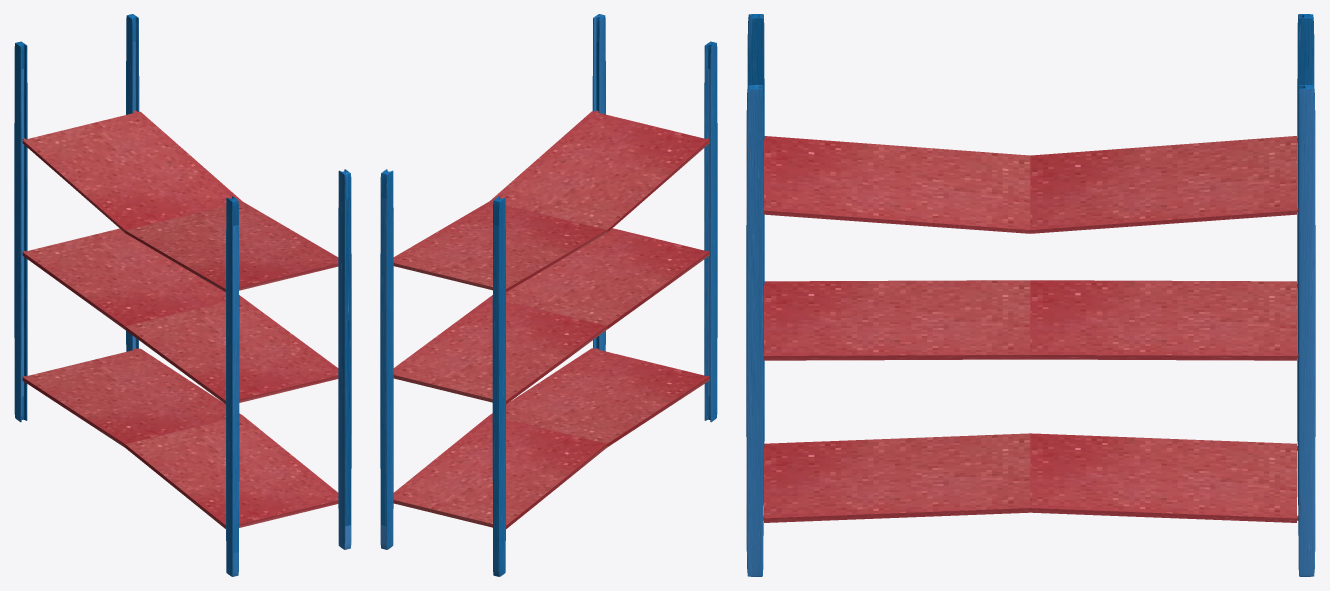
The model's file is ShelvesLongBroken.fbx.
3 renders of one model, left to right at view 1: azimuth 30°, elevation 25°; view 2: azimuth 150°, elevation 25°; view 3: azimuth 270°, elevation 25°, orthographic. The views are drawn at different scales.
Visible parts, largest first — view 1: Shelf, Shelf10, Shelf9, pCube1, pCube8, pCube7, pCube9; view 2: Shelf, Shelf10, Shelf9, pCube9, pCube7, pCube8, pCube1; view 3: Shelf10, Shelf9, Shelf, pCube1, pCube9, pCube8, pCube7.
Boxes of the visible parts, left/top/right/bottom form: Shelf: left=22, top=110, right=338, bottom=292; Shelf10: left=22, top=348, right=338, bottom=528; Shelf9: left=22, top=228, right=338, bottom=404; pCube1: left=338, top=169, right=351, bottom=549; pCube8: left=14, top=41, right=27, bottom=422; pCube7: left=226, top=196, right=239, bottom=576; pCube9: left=126, top=14, right=139, bottom=351; Shelf: left=393, top=110, right=709, bottom=291; Shelf10: left=393, top=348, right=709, bottom=528; Shelf9: left=393, top=228, right=709, bottom=404; pCube9: left=380, top=169, right=393, bottom=549; pCube7: left=704, top=41, right=717, bottom=422; pCube8: left=492, top=196, right=505, bottom=576; pCube1: left=592, top=14, right=605, bottom=351; Shelf10: left=763, top=433, right=1298, bottom=522; Shelf9: left=763, top=280, right=1298, bottom=360; Shelf: left=763, top=136, right=1298, bottom=233; pCube1: left=746, top=85, right=763, bottom=576; pCube9: left=1298, top=85, right=1315, bottom=576; pCube8: left=1297, top=14, right=1314, bottom=504; pCube7: left=747, top=14, right=764, bottom=504.
Size of the model in its own units: 6.09 by 18.28 by 19.3.
2 materials, 2 textured.
